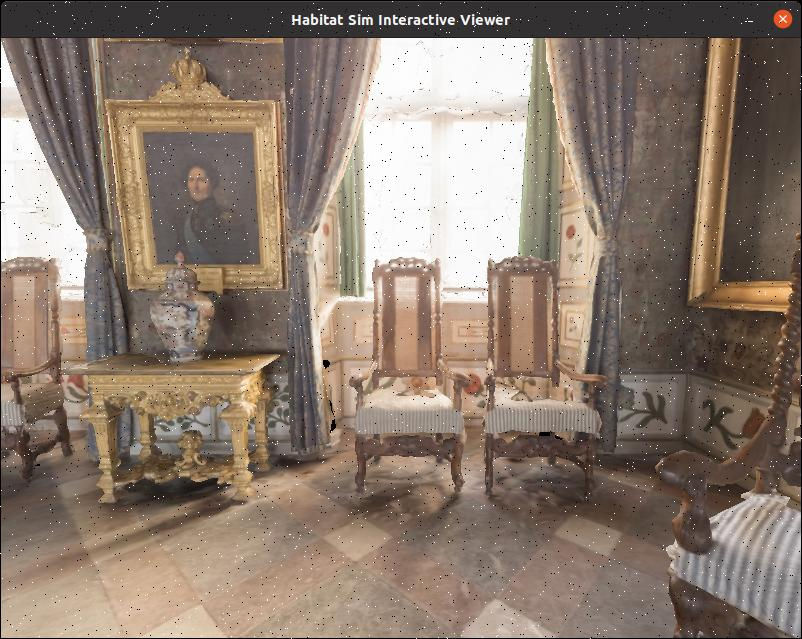chair: (458, 253, 615, 515), (343, 241, 472, 508)
table: (64, 337, 299, 514)
